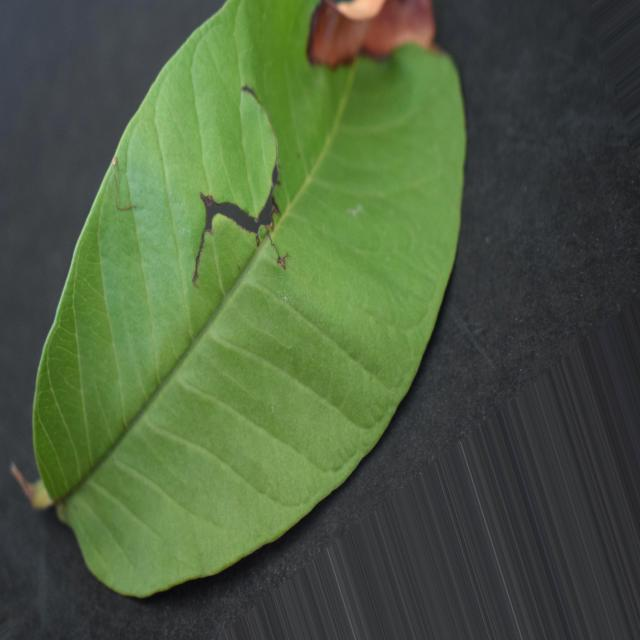Mummification: (32, 2, 465, 596)
